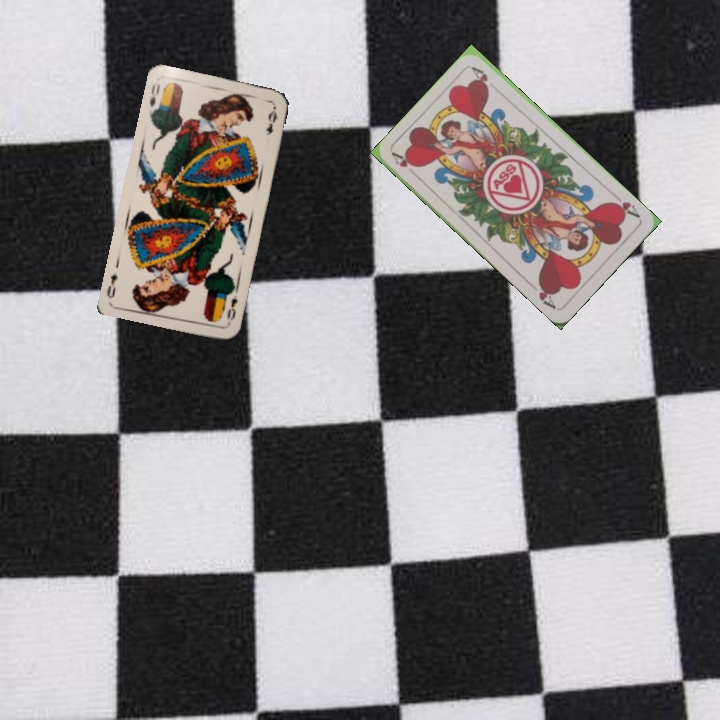EO: (223, 291, 240, 327), (145, 79, 163, 110)
HA: (607, 190, 643, 221), (389, 149, 419, 170)
